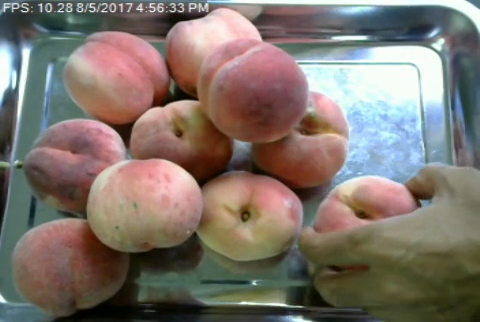Peach: (197, 39, 308, 143), (12, 216, 127, 315), (89, 155, 200, 252), (63, 28, 168, 126), (194, 171, 303, 259), (25, 117, 124, 212), (250, 90, 348, 184), (163, 8, 265, 98), (130, 98, 232, 178), (315, 176, 419, 234)
